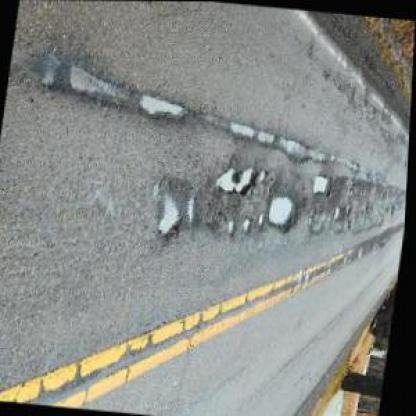pothole: (64, 63, 132, 106), (214, 162, 260, 198), (268, 194, 305, 232), (139, 93, 187, 119), (160, 197, 187, 240), (278, 136, 314, 162), (228, 119, 260, 142), (184, 196, 201, 226), (311, 173, 334, 194), (241, 216, 255, 235), (334, 204, 345, 220), (229, 218, 238, 234), (257, 214, 269, 226)
